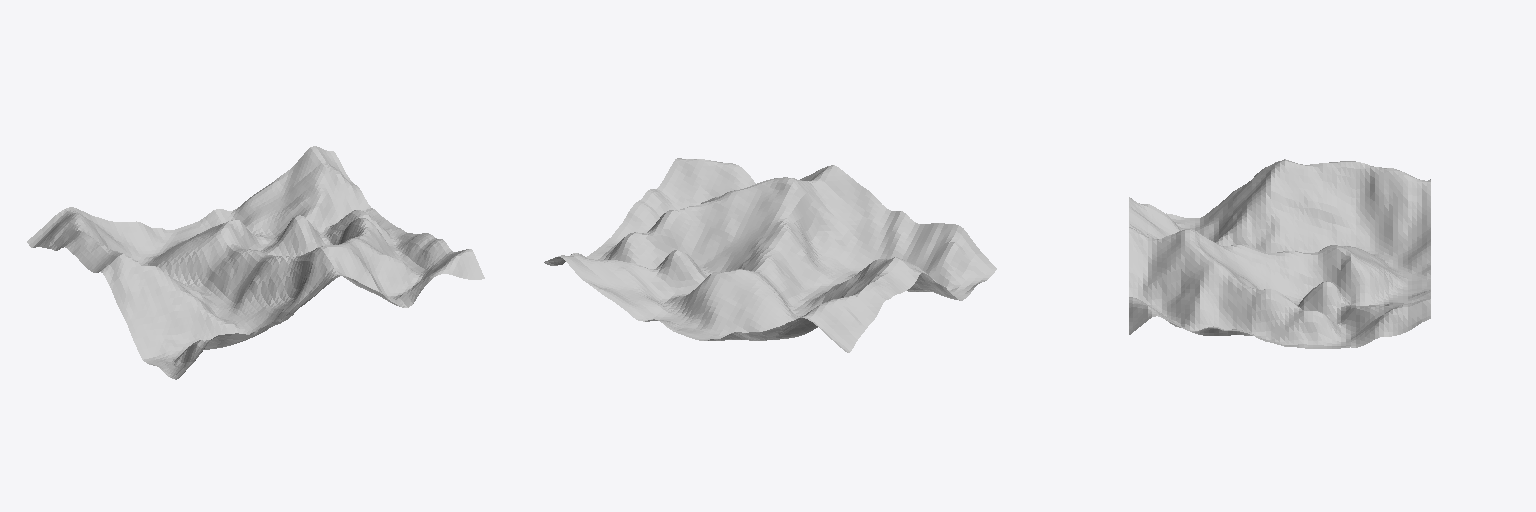
The model's file is Machu Picchu.obj.
The picture shows the model from 3 angles: view 1: azimuth 30°, elevation 25°; view 2: azimuth 150°, elevation 25°; view 3: azimuth 270°, elevation 25°; orthographic projection.
Visible parts, largest first — view 1: EXPORT_BING_SAT_WM; view 2: EXPORT_BING_SAT_WM; view 3: EXPORT_BING_SAT_WM.
Boxes of the visible parts, x1,y1,x2,y2 form: EXPORT_BING_SAT_WM: [27, 146, 484, 379]; EXPORT_BING_SAT_WM: [544, 158, 996, 352]; EXPORT_BING_SAT_WM: [1129, 159, 1430, 348].
Bounding box in the file's own units: 3898 × 911 × 3325.